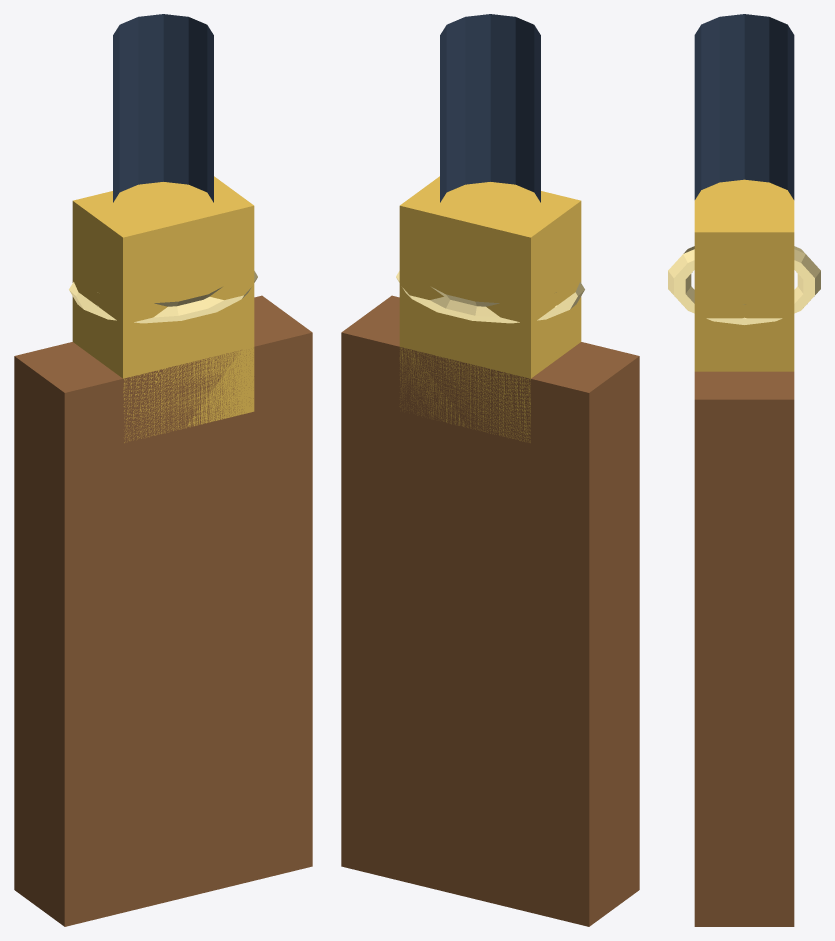
File: minglora_cricket_bat.gltf
3 renders of one model, left to right at view 1: azimuth 30°, elevation 25°; view 2: azimuth 150°, elevation 25°; view 3: azimuth 270°, elevation 25°, orthographic.
Parts seen in each view (by area): view 1: minglora_cricket_bat_0, minglora_cricket_bat_1, minglora_cricket_bat_2, minglora_cricket_bat_3; view 2: minglora_cricket_bat_0, minglora_cricket_bat_1, minglora_cricket_bat_2, minglora_cricket_bat_3; view 3: minglora_cricket_bat_0, minglora_cricket_bat_1, minglora_cricket_bat_2, minglora_cricket_bat_3.
Part boxes in pixels (bbox=[...]): minglora_cricket_bat_0: bbox=[14, 295, 312, 926]; minglora_cricket_bat_1: bbox=[72, 176, 254, 442]; minglora_cricket_bat_2: bbox=[113, 14, 213, 202]; minglora_cricket_bat_3: bbox=[69, 271, 257, 323]; minglora_cricket_bat_0: bbox=[341, 295, 639, 926]; minglora_cricket_bat_1: bbox=[399, 176, 581, 442]; minglora_cricket_bat_2: bbox=[440, 14, 540, 202]; minglora_cricket_bat_3: bbox=[396, 271, 584, 323]; minglora_cricket_bat_0: bbox=[694, 371, 794, 926]; minglora_cricket_bat_1: bbox=[694, 179, 794, 371]; minglora_cricket_bat_2: bbox=[694, 14, 794, 199]; minglora_cricket_bat_3: bbox=[668, 246, 820, 324].
Size of the model in its own units: 0.68 by 2.21 by 0.3681.
